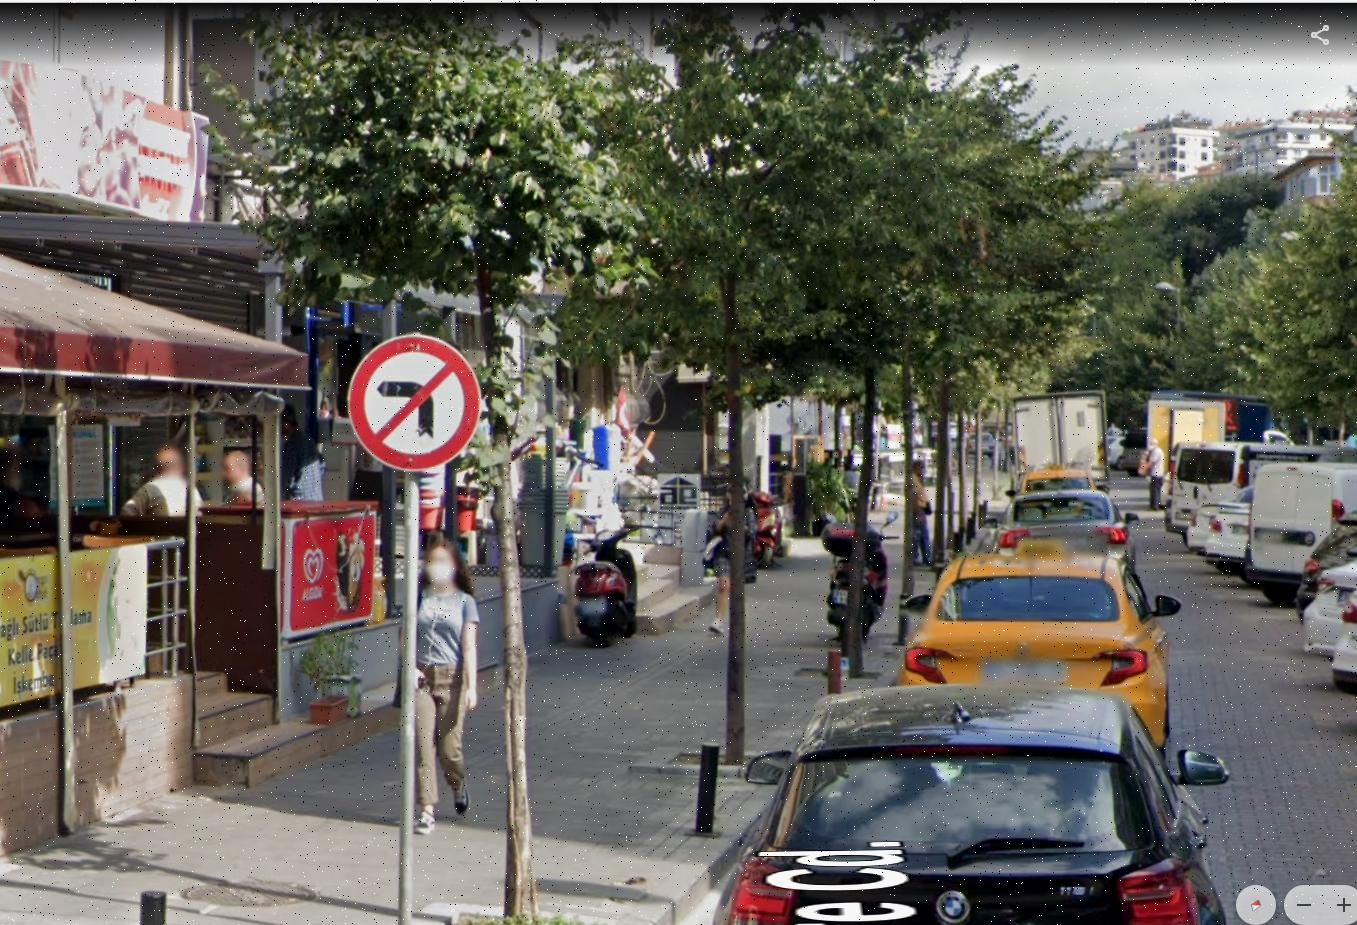leftturnsareforbidden: (356, 339, 469, 457)
